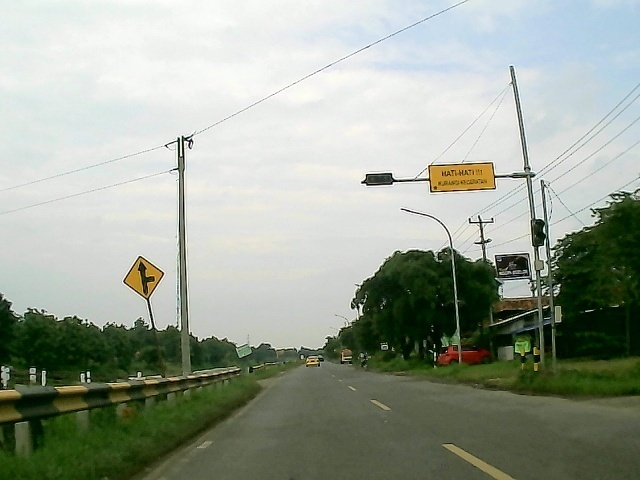Simpang kanan dengan prioritas: (122, 254, 166, 301)
